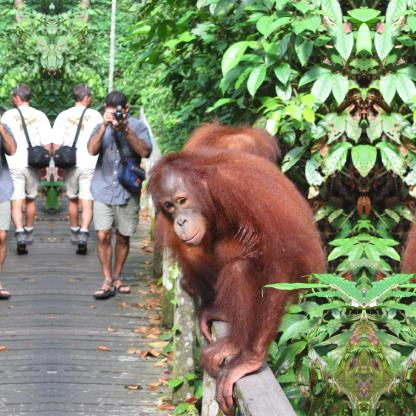Monkey: (143, 111, 331, 409)
